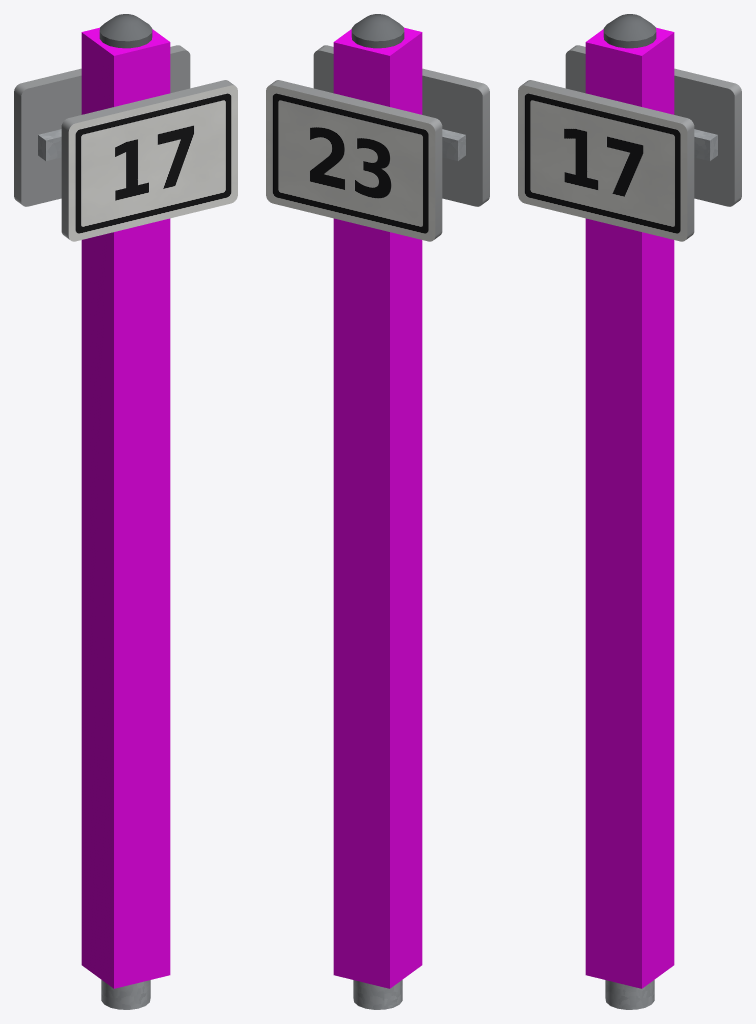
The model's file is EN_Sign_6_13_Km17.fbx.
3 renders of one model, left to right at view 1: azimuth 30°, elevation 25°; view 2: azimuth 150°, elevation 25°; view 3: azimuth 330°, elevation 25°, orthographic.
Parts seen in each view (by area): view 1: COL_Post, EN_Sign_6_13_Km17_Mesh; view 2: COL_Post, EN_Sign_6_13_Km17_Mesh; view 3: COL_Post, EN_Sign_6_13_Km17_Mesh.
Boxes of the visible parts, box(x1,y1,x2,y2) form: COL_Post: box(81, 27, 170, 988); EN_Sign_6_13_Km17_Mesh: box(14, 14, 237, 1009); COL_Post: box(333, 27, 422, 988); EN_Sign_6_13_Km17_Mesh: box(266, 14, 489, 1009); COL_Post: box(585, 27, 674, 988); EN_Sign_6_13_Km17_Mesh: box(518, 14, 741, 1009).
Size of the model in its own units: 0.3 by 1.66 by 0.168.
